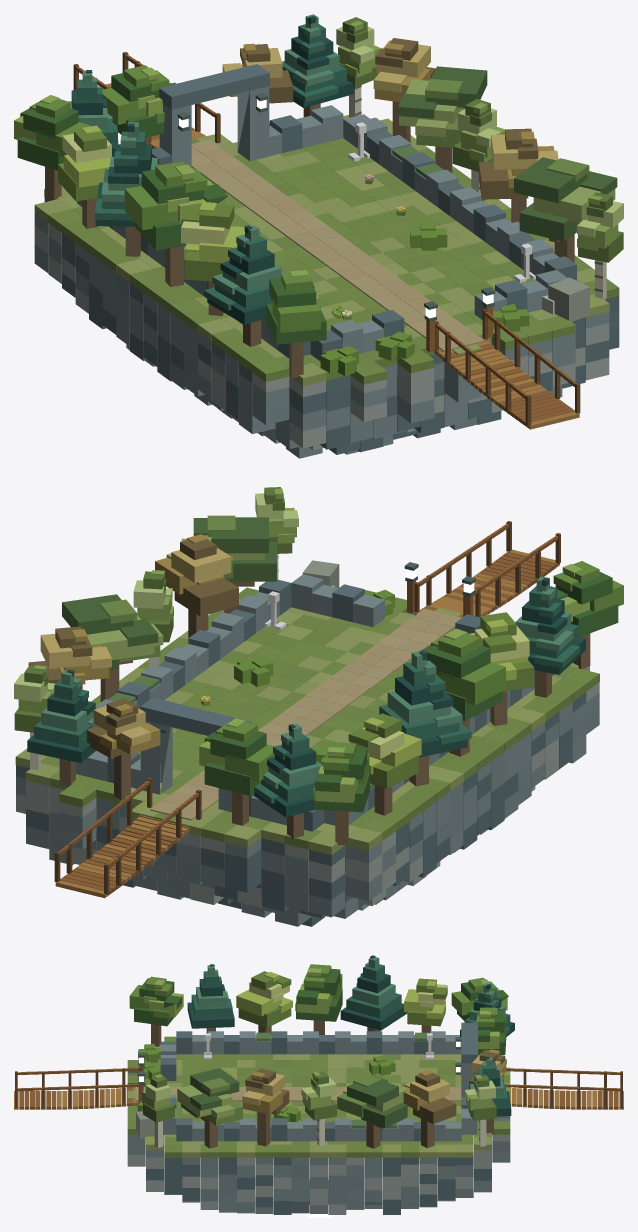
Rendered from room_empty_purified.glb.
3 renders of one model, top to bottom at view 1: azimuth 30°, elevation 25°; view 2: azimuth 150°, elevation 25°; view 3: azimuth 270°, elevation 25°, orthographic. The views are drawn at different scales.
Visible parts, largest first — view 1: room_empty_blocks, tree0_(0, 0).002, tree3_(0, 0).001, tree3_(0, 0).002, tree2_(0, 0).001, tree2_(0, 0).004, tree0_(0, 0).001, tree2_(0, 0).002, tree0_(0, 0).003, tree4_(0, 0).001, tree5_(0, 0).001, tree0_(0, 0).004 (+12 smaller); view 2: room_empty_blocks, tree2_(0, 0).002, tree3_(0, 0).002, tree5_(0, 0).001, tree0_(0, 0).002, tree0_(0, 0).004, tree2_(0, 0).001, tree2_(0, 0).004, tree2_(0, 0).003, tree3_(0, 0).001, tree4_(0, 0).002, tree0_(0, 0).001 (+9 smaller); view 3: room_empty_blocks, tree3_(0, 0).001, tree3_(0, 0).002, tree2_(0, 0).002, tree4_(0, 0).001, tree0_(0, 0).002, tree5_(0, 0).002, tree0_(0, 0).001, tree5_(0, 0).001, tree2_(0, 0).001, tree4_(0, 0).002, tree1_(0, 0).002 (+9 smaller).
Part boxes in pixels (left/top/right/bottom): room_empty_blocks: left=34, top=52, right=619, bottom=458; tree0_(0, 0).002: left=124, top=161, right=228, bottom=286; tree3_(0, 0).001: left=514, top=157, right=617, bottom=262; tree3_(0, 0).002: left=398, top=66, right=487, bottom=172; tree2_(0, 0).001: left=204, top=225, right=281, bottom=346; tree2_(0, 0).004: left=282, top=14, right=354, bottom=116; tree0_(0, 0).001: left=266, top=270, right=326, bottom=377; tree2_(0, 0).002: left=95, top=122, right=157, bottom=256; tree0_(0, 0).003: left=14, top=95, right=91, bottom=200; tree4_(0, 0).001: left=181, top=202, right=244, bottom=315; tree5_(0, 0).001: left=479, top=128, right=558, bottom=222; tree0_(0, 0).004: left=102, top=65, right=175, bottom=144; room_empty_blocks: left=15, top=521, right=599, bottom=926; tree2_(0, 0).002: left=379, top=650, right=471, bottom=786; tree3_(0, 0).002: left=62, top=594, right=163, bottom=701; tree5_(0, 0).001: left=155, top=534, right=238, bottom=637; tree0_(0, 0).002: left=420, top=628, right=505, bottom=756; tree0_(0, 0).004: left=199, top=718, right=274, bottom=825; tree2_(0, 0).001: left=515, top=576, right=585, bottom=697; tree2_(0, 0).004: left=27, top=669, right=97, bottom=786; tree2_(0, 0).003: left=254, top=724, right=322, bottom=840; tree3_(0, 0).001: left=181, top=515, right=276, bottom=613; tree4_(0, 0).002: left=348, top=713, right=421, bottom=815; tree0_(0, 0).001: left=551, top=561, right=623, bottom=668; room_empty_blocks: left=14, top=1022, right=623, bottom=1217; tree3_(0, 0).001: left=177, top=1068, right=242, bottom=1148; tree3_(0, 0).002: left=337, top=1074, right=407, bottom=1148; tree2_(0, 0).002: left=340, top=955, right=407, bottom=1031; tree4_(0, 0).001: left=236, top=971, right=292, bottom=1034; tree0_(0, 0).002: left=295, top=964, right=342, bottom=1034; tree5_(0, 0).002: left=403, top=1070, right=456, bottom=1148; tree0_(0, 0).001: left=129, top=976, right=183, bottom=1046; tree5_(0, 0).001: left=242, top=1068, right=289, bottom=1146; tree2_(0, 0).001: left=187, top=964, right=234, bottom=1033; tree4_(0, 0).002: left=404, top=978, right=447, bottom=1033; tree1_(0, 0).002: left=301, top=1071, right=336, bottom=1145.
Size of the model in its own units: 19.57 by 14.28 by 38.5.
